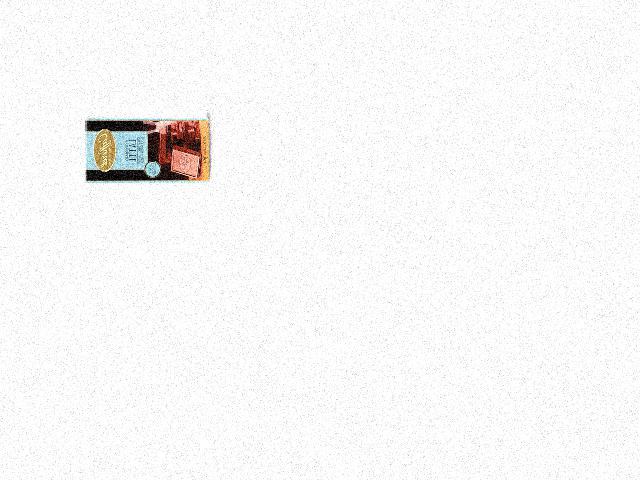chocolate: (84, 115, 211, 184)
